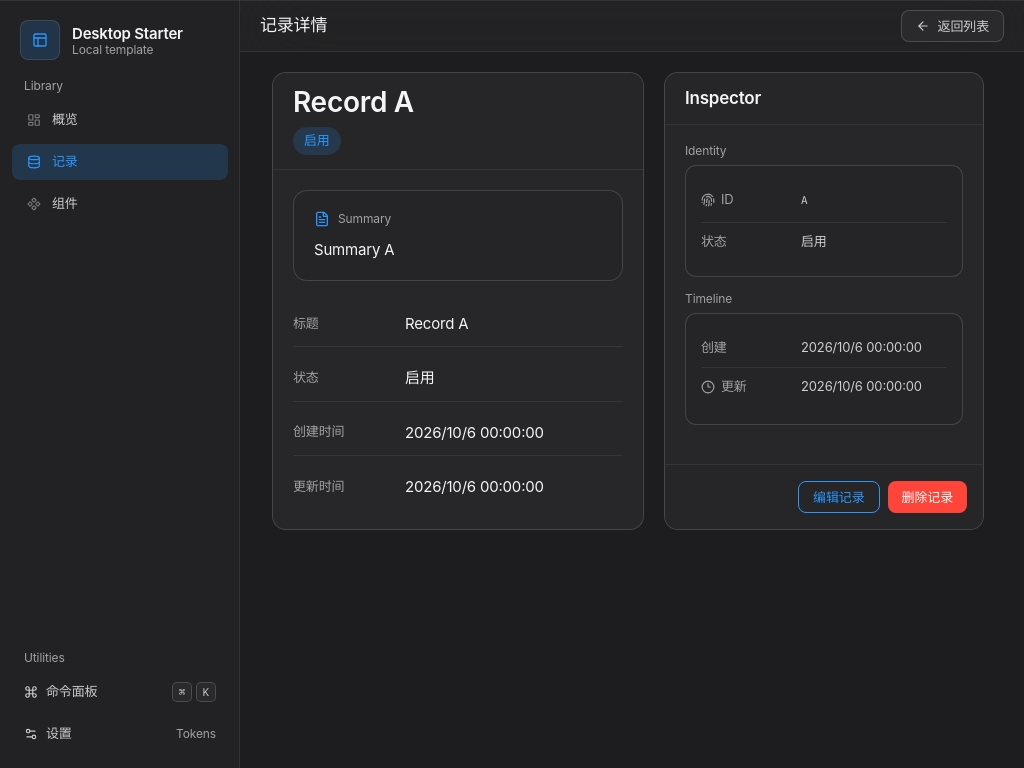
Test: does not navigate away from B when A's deletion completes
Click the button "删除记录" at (927, 497), box [888,481,967,513]
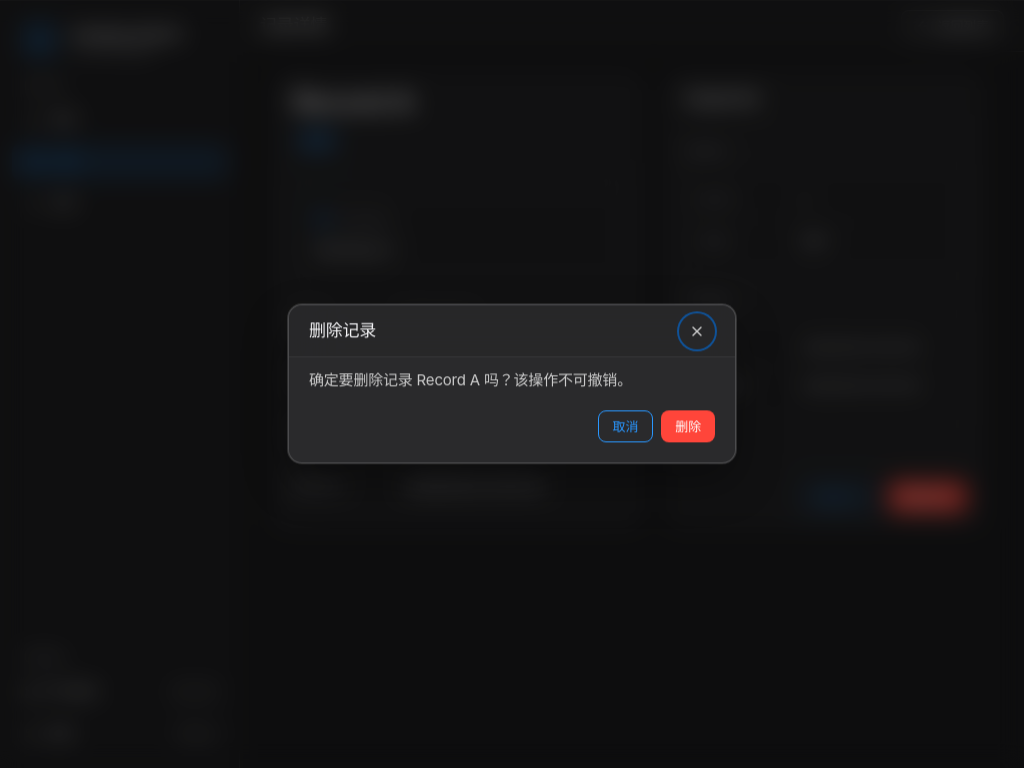
Click the button "删除" at (688, 427), box [661,411,715,443]
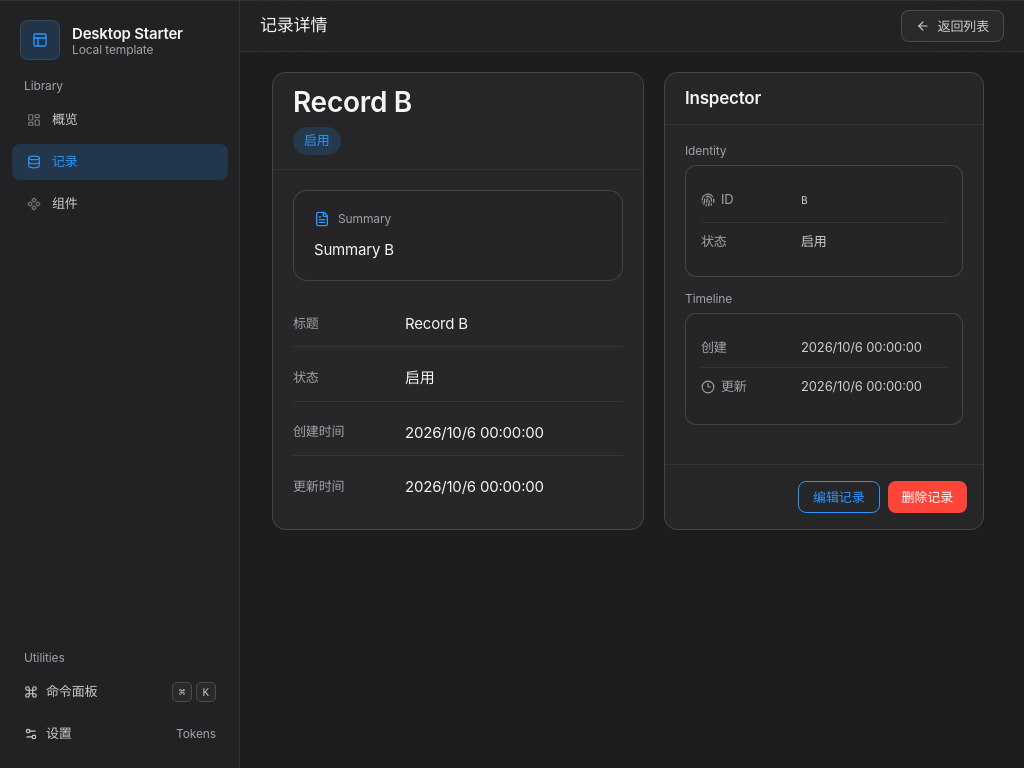
Now the heading "Record B" is shown, box [293,87,412,119]
